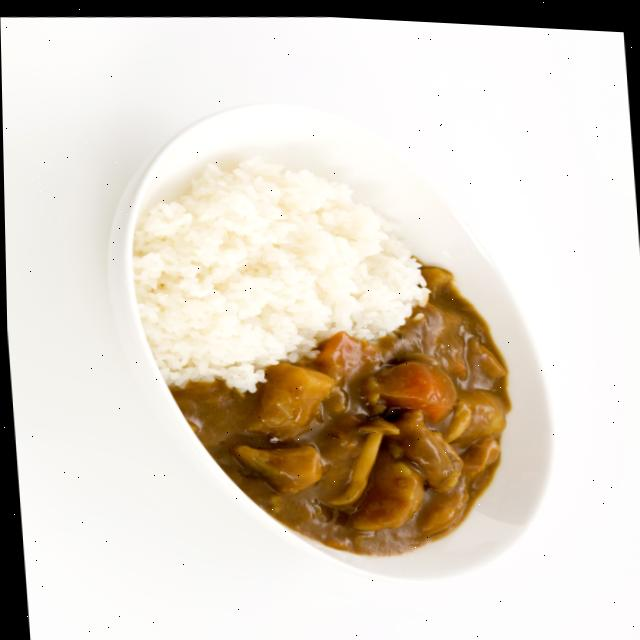Wet: (118, 126, 527, 579)
